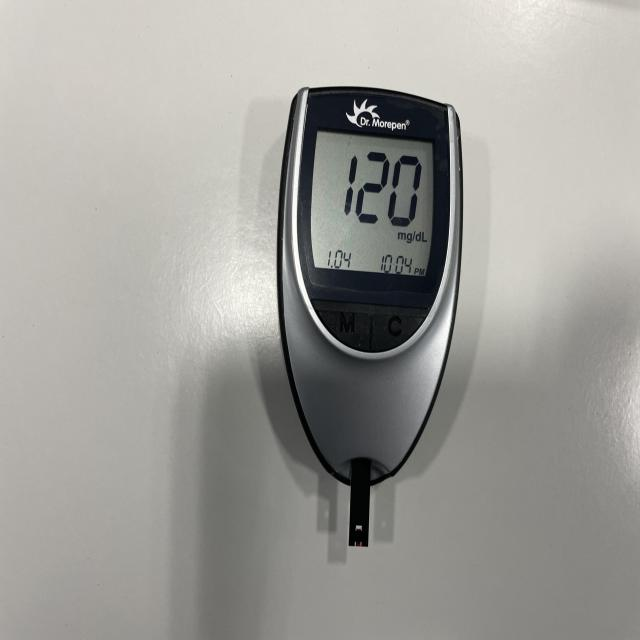gluco: (278, 88, 463, 544)
